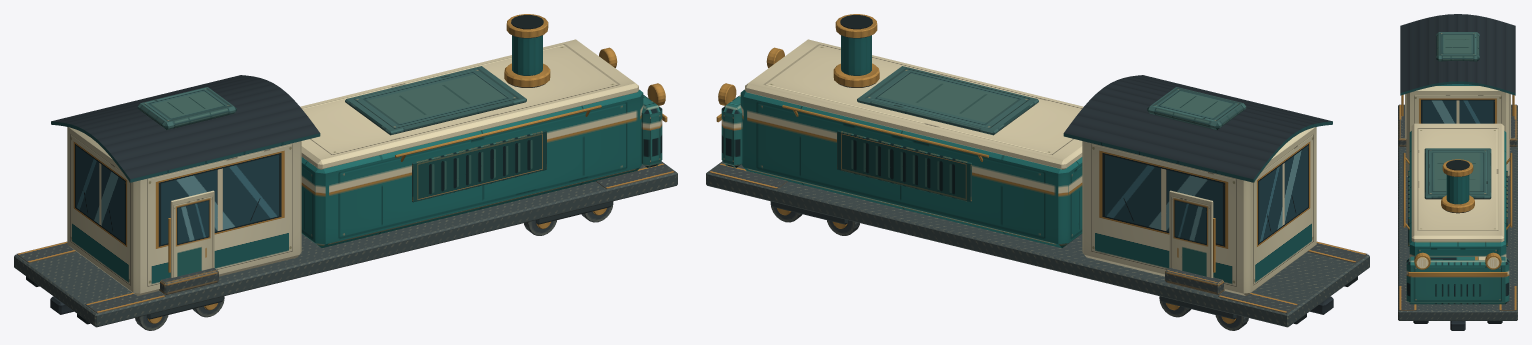
Rendered from SM_Locomotive.fbx.
3 views of the same model, side by side, from view 1: azimuth 30°, elevation 25°; view 2: azimuth 150°, elevation 25°; view 3: azimuth 270°, elevation 25° (orthographic). The views are drawn at different scales.
Parts seen in each view (by area): view 1: SM_Locomotive; view 2: SM_Locomotive; view 3: SM_Locomotive.
Part boxes in pixels (<box>): SM_Locomotive: <box>14,14,677,330</box>; SM_Locomotive: <box>706,14,1369,330</box>; SM_Locomotive: <box>1398,14,1517,330</box>.
Size of what is drawn, in the model's own units: 900 by 220 by 278.
1 material, 1 textured.
